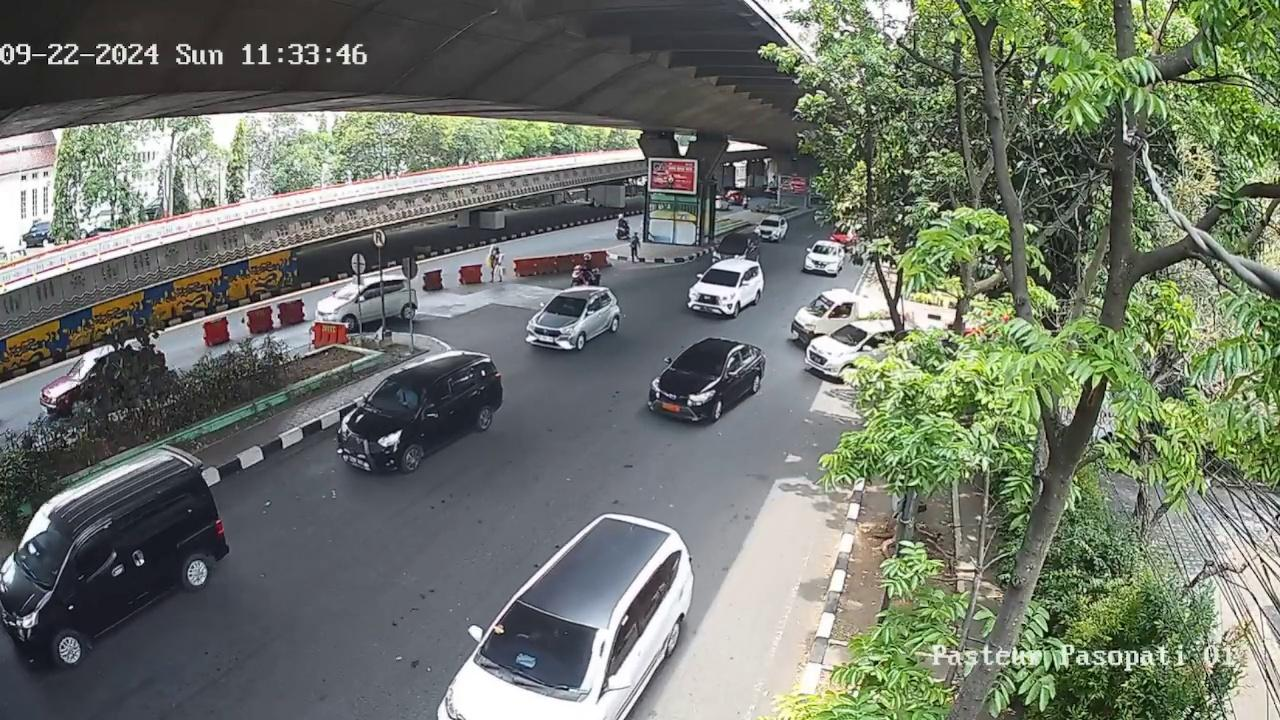pakai: (395, 382, 418, 411)
windshield: (479, 600, 613, 697), (362, 375, 430, 416), (670, 348, 725, 379), (828, 322, 866, 347), (544, 295, 586, 317), (699, 266, 741, 287)
